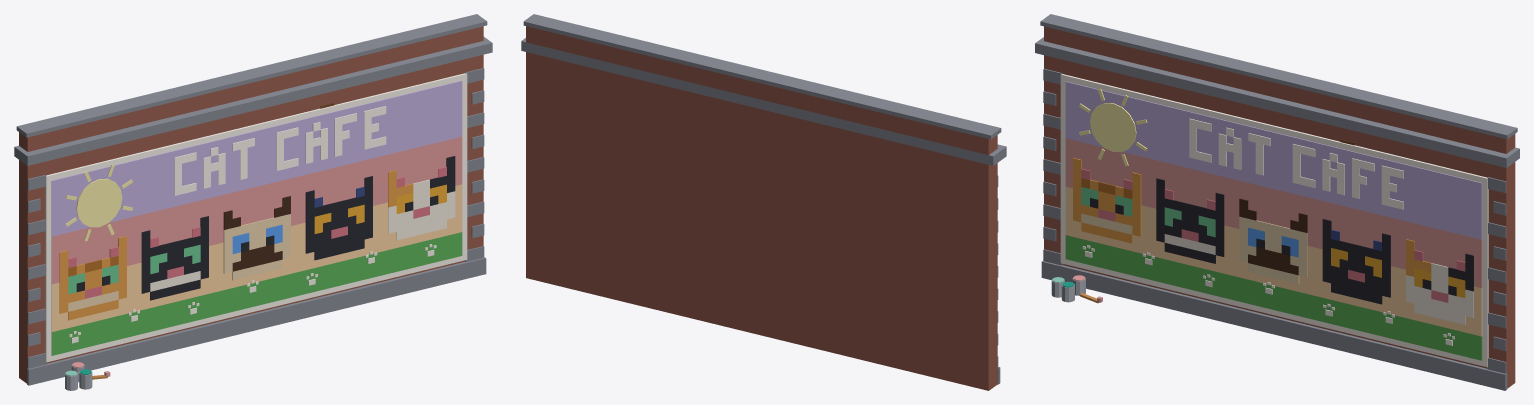
File: CatCafe_Alley_Mural.glb
3 views of the same model, side by side, from view 1: azimuth 30°, elevation 25°; view 2: azimuth 150°, elevation 25°; view 3: azimuth 330°, elevation 25° (orthographic).
Parts seen in each view (by area): view 1: CatCafe_Alley_Mural, CatCafe_Alley_Mural_Sun; view 2: CatCafe_Alley_Mural; view 3: CatCafe_Alley_Mural, CatCafe_Alley_Mural_Sun.
Part boxes in pixels (x1,y1,x2,y2): CatCafe_Alley_Mural: (14, 14, 492, 390); CatCafe_Alley_Mural_Sun: (65, 165, 132, 241); CatCafe_Alley_Mural: (521, 14, 1006, 390); CatCafe_Alley_Mural: (1035, 14, 1519, 390); CatCafe_Alley_Mural_Sun: (1079, 88, 1147, 166).
Size of the model in its own units: 30.6 by 15.87 by 3.33.
1 material, 1 textured.
